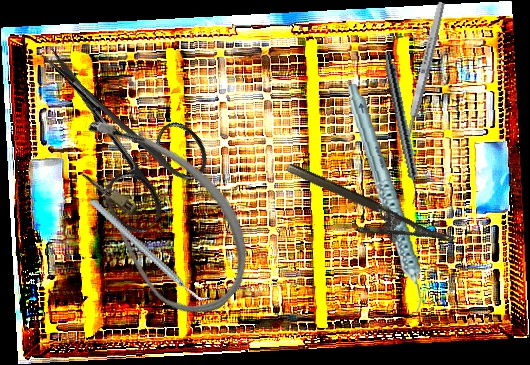Cannula: (32, 94, 281, 336)
Chopper: (89, 173, 211, 328)
Handpiece: (345, 80, 424, 318), (378, 50, 426, 206)
Iris Scissors: (0, 14, 222, 241)
Needle Holder: (275, 160, 457, 271)
Surgical Spoon: (396, 1, 447, 164)
